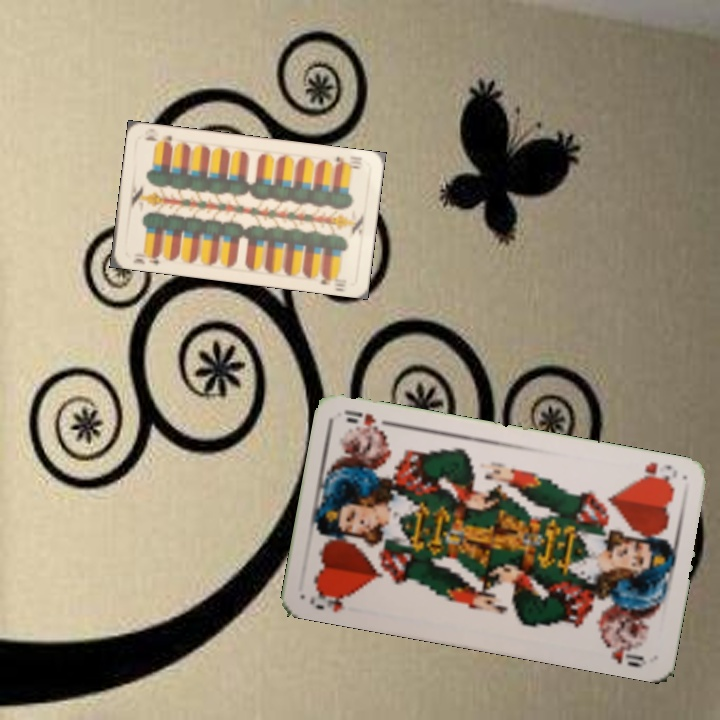E10: (129, 248, 164, 267), (331, 152, 365, 171)
HO: (305, 585, 353, 615), (635, 458, 678, 489)
